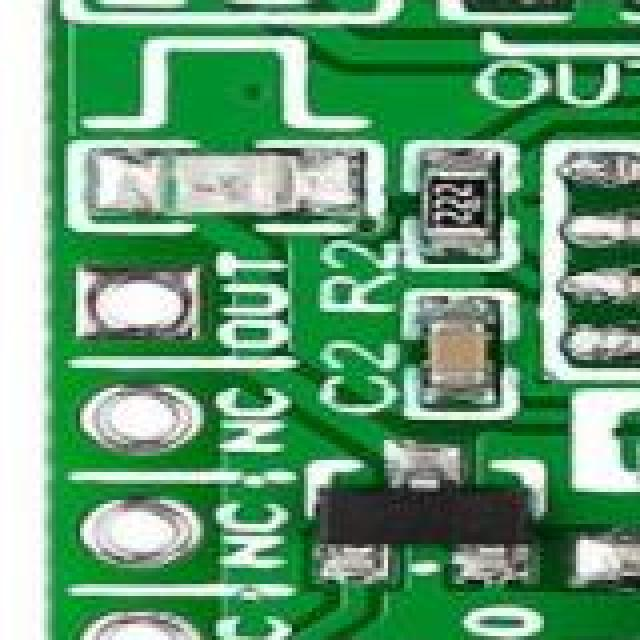IC: (632, 144, 640, 376)
LED: (128, 152, 350, 214)
capacitor: (420, 312, 520, 412)
resistor: (420, 152, 504, 268), (524, 0, 640, 24)
transistor: (316, 460, 532, 572)
